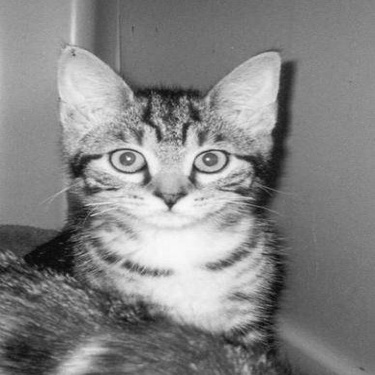cat: (9, 31, 319, 367)
